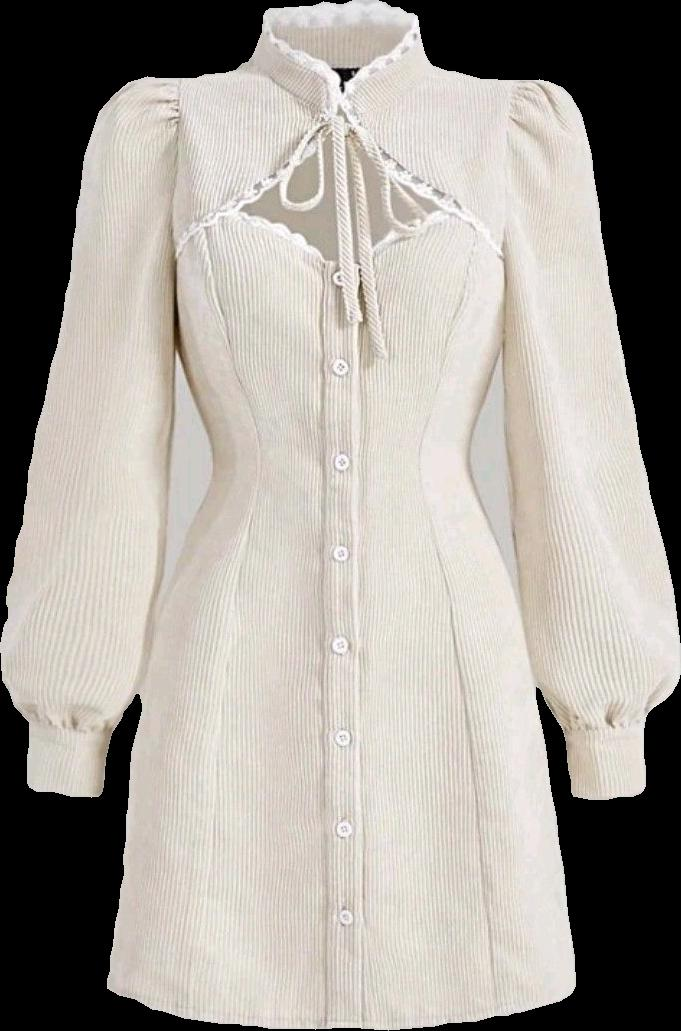Bodice: (168, 0, 511, 477)
Hemline: (106, 979, 579, 1029)
Neckline: (173, 86, 507, 257), (228, 205, 459, 273), (260, 21, 421, 101)
Skirt: (108, 478, 575, 1028)
Sleeve: (0, 77, 180, 797), (505, 79, 680, 800)
Sleeveline: (498, 83, 519, 270), (171, 79, 187, 261), (26, 712, 113, 740), (556, 709, 652, 734)
